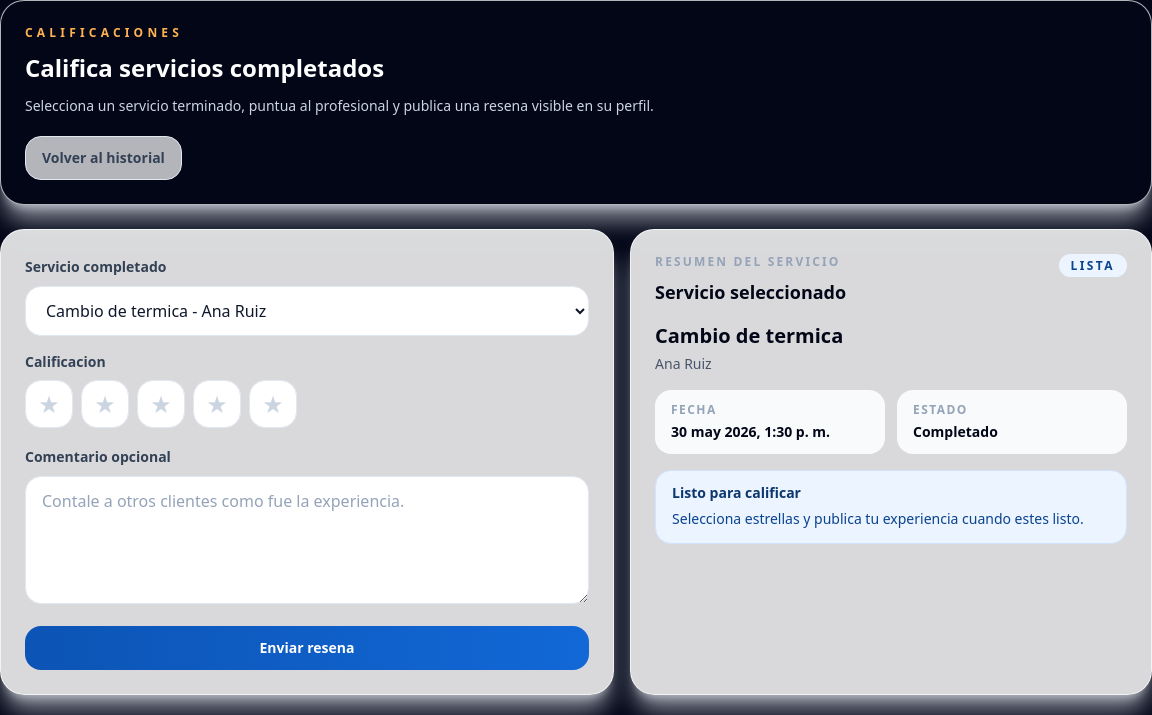
ReviewsPage › permite enviar solo estrellas sin comentario
This screenshot has width=1152, height=715.
Check: the heading "Cambio de termica" is shown, box [655,322,843,349]
Click the radio button named "4 estrellas".
click(217, 404)  # box [193,380,241,428]
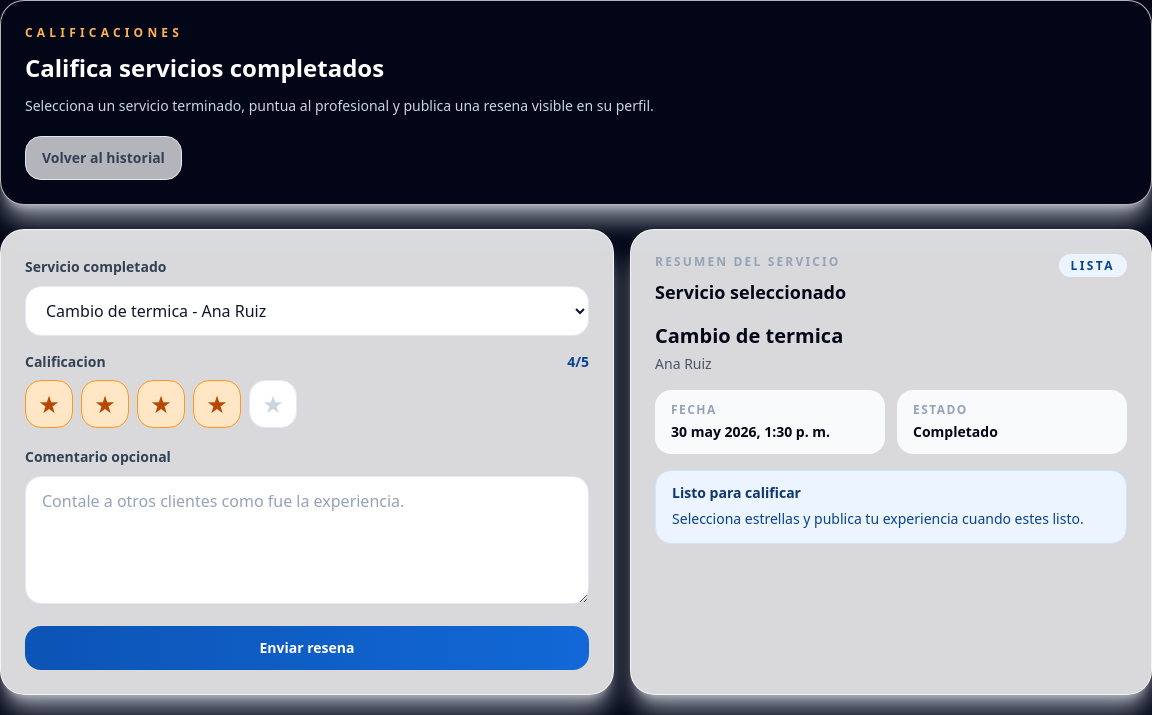
Click the button "Enviar resena".
click(307, 648)  # box [25,626,589,670]
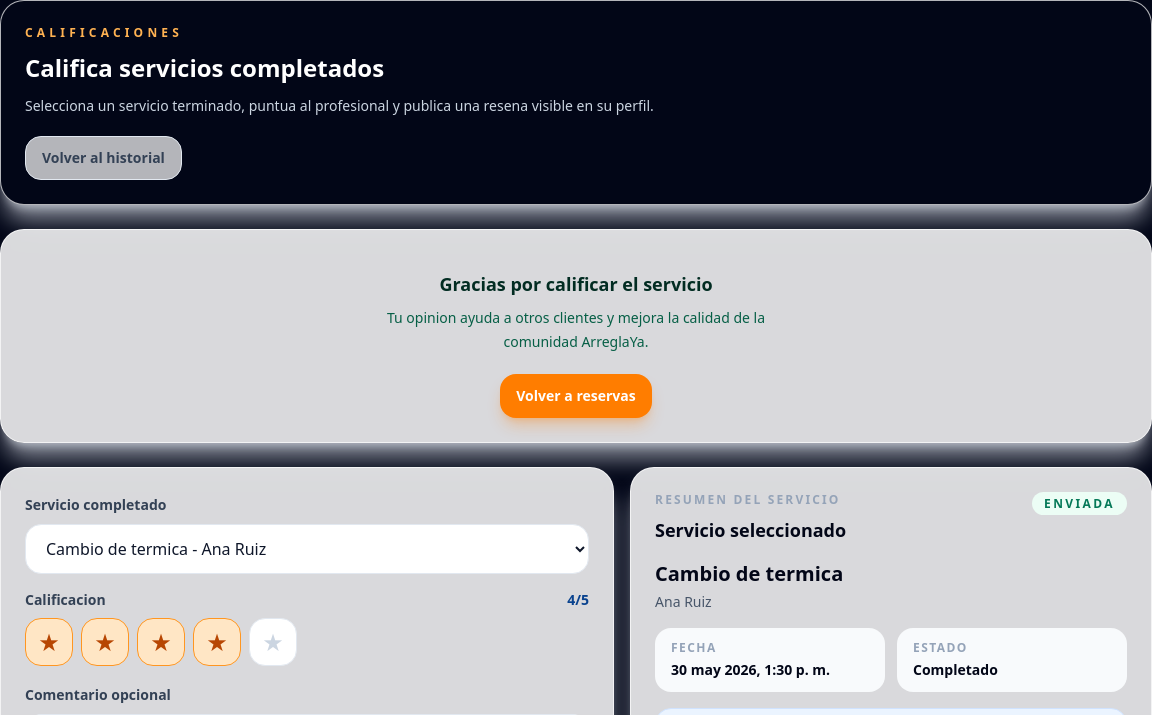
Check: the heading "Gracias por calificar el servicio" is shown, box [440,272,713,296]
